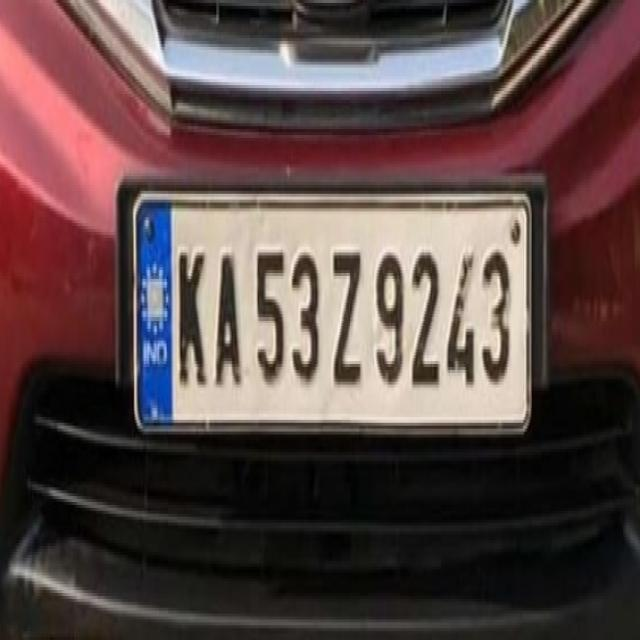3: (480, 233, 516, 396), (290, 238, 320, 386)
4: (444, 236, 480, 398)
5: (251, 236, 286, 386)
9: (375, 242, 408, 399)
A: (213, 227, 242, 396)
K: (175, 240, 208, 395)
Z: (329, 235, 364, 391)
